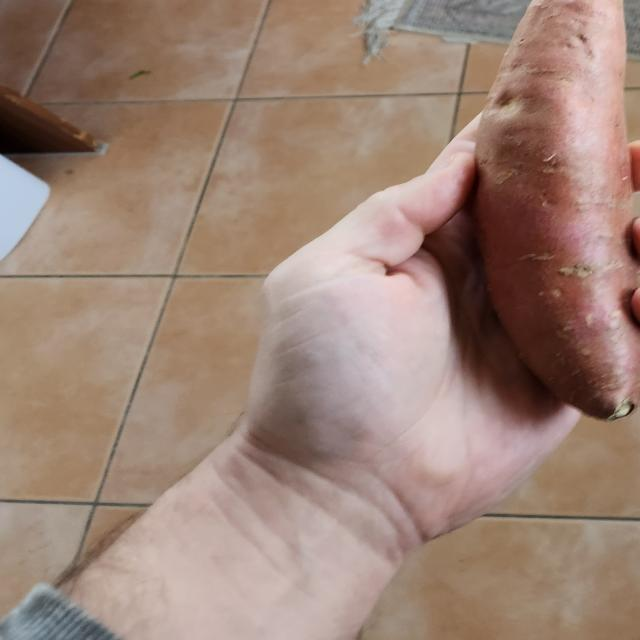kumara: (475, 0, 640, 421)
